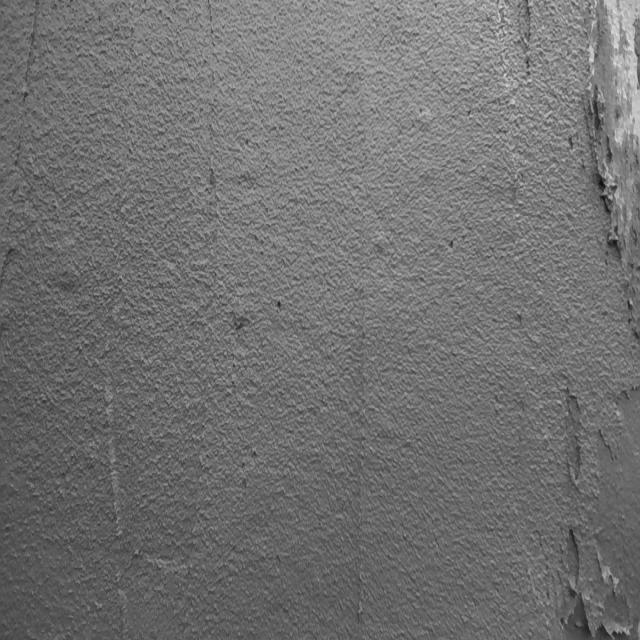trowels marks: (103, 231, 128, 633), (12, 4, 42, 262), (354, 217, 370, 640)
